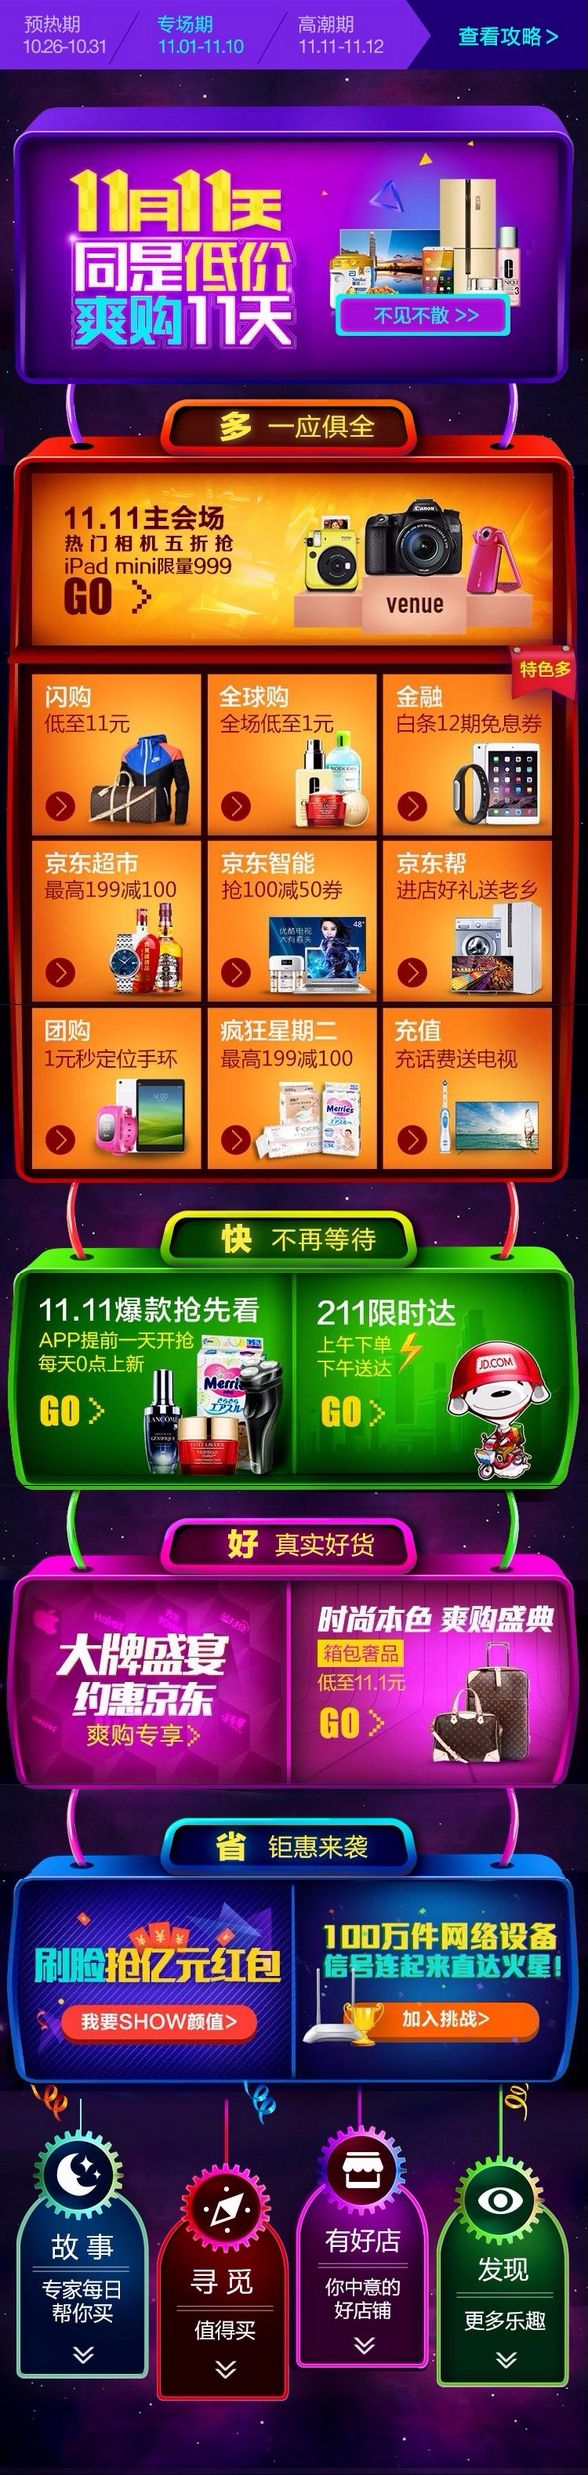floors: (2, 398, 588, 1185), (2, 1203, 588, 1496), (2, 2123, 588, 2409), (2, 1809, 588, 2091), (2, 1517, 588, 1793)
toutu: (2, 2, 588, 388)
